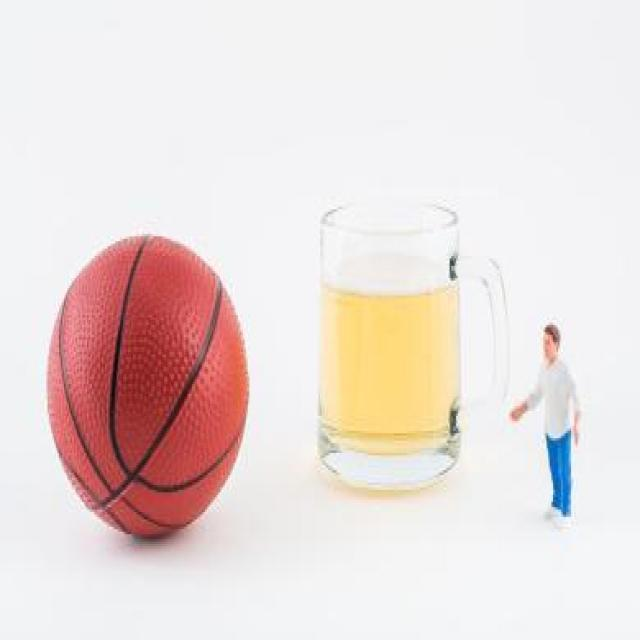rim: (51, 239, 250, 544)
